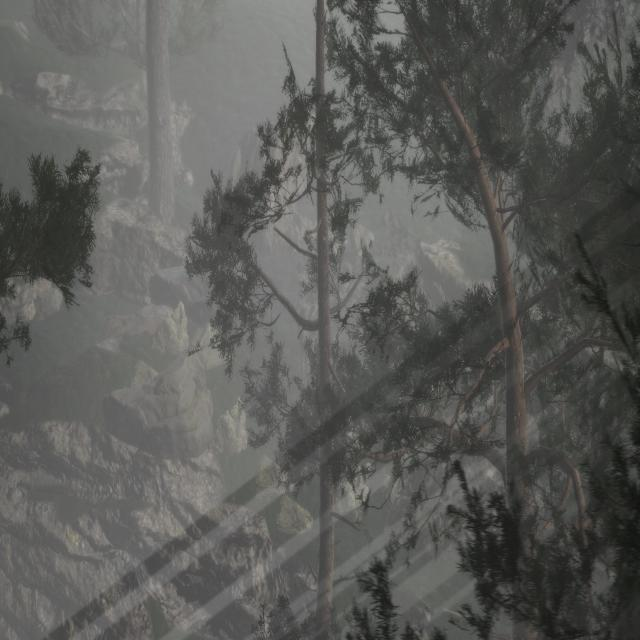Human: (293, 275, 316, 404)
